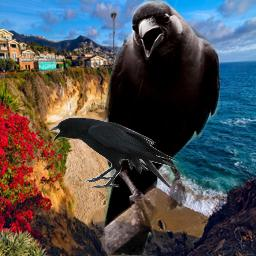Crow: (101, 0, 220, 255), (49, 117, 179, 189)
